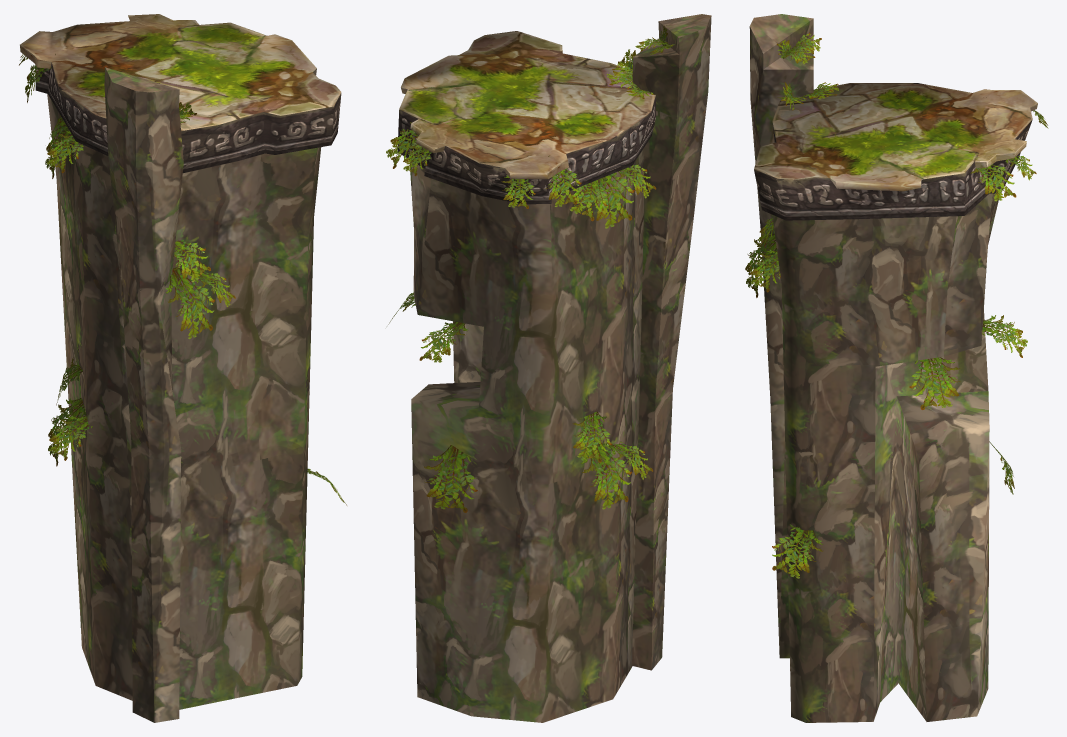
Rendered from gjs_yanti01.FBX.
3 renders of one model, left to right at view 1: azimuth 30°, elevation 25°; view 2: azimuth 150°, elevation 25°; view 3: azimuth 270°, elevation 25°, orthographic. The views are drawn at different scales.
Visible parts, largest first — view 1: 对象02, Box02, 对象01, Plane27, Plane12, Plane26, Plane11, Plane07, Plane28; view 2: 对象02, 对象01, Box02, Plane13, Plane11, Plane03, Plane10, Plane15, Plane04, Plane05, Plane12, Plane06 (+2 smaller); view 3: 对象02, 对象01, Box02, Plane16, Plane14, Plane15, Plane09, Plane27, Plane28.
Boxes of the visible parts, x1=… form: 对象02: x1=47, y1=94, x2=321, y2=709; Box02: x1=104, y1=67, x2=183, y2=722; 对象01: x1=20, y1=14, x2=341, y2=173; Plane27: x1=165, y1=267, x2=214, y2=339; Plane12: x1=49, y1=415, x2=92, y2=460; Plane26: x1=173, y1=240, x2=210, y2=282; Plane11: x1=48, y1=398, x2=86, y2=466; Plane07: x1=47, y1=131, x2=83, y2=173; Plane28: x1=191, y1=269, x2=235, y2=306; 对象02: x1=409, y1=149, x2=643, y2=722; 对象01: x1=397, y1=31, x2=655, y2=204; Box02: x1=632, y1=14, x2=711, y2=670; Plane13: x1=424, y1=445, x2=477, y2=512; Plane11: x1=580, y1=442, x2=631, y2=509; Plane03: x1=583, y1=174, x2=634, y2=228; Plane10: x1=572, y1=411, x2=611, y2=462; Plane15: x1=419, y1=321, x2=468, y2=362; Plane04: x1=567, y1=178, x2=607, y2=221; Plane05: x1=545, y1=155, x2=581, y2=206; Plane12: x1=609, y1=441, x2=652, y2=479; Plane06: x1=501, y1=175, x2=535, y2=208; 对象02: x1=772, y1=193, x2=999, y2=722; 对象01: x1=754, y1=83, x2=1037, y2=220; Box02: x1=749, y1=14, x2=813, y2=658; Plane16: x1=909, y1=357, x2=960, y2=409; Plane14: x1=772, y1=524, x2=823, y2=578; Plane15: x1=982, y1=315, x2=1027, y2=357; Plane09: x1=970, y1=164, x2=1016, y2=201; Plane27: x1=745, y1=233, x2=776, y2=297; Plane28: x1=750, y1=249, x2=780, y2=292.
Size of the model in its own units: 968 by 2407 by 1106.
